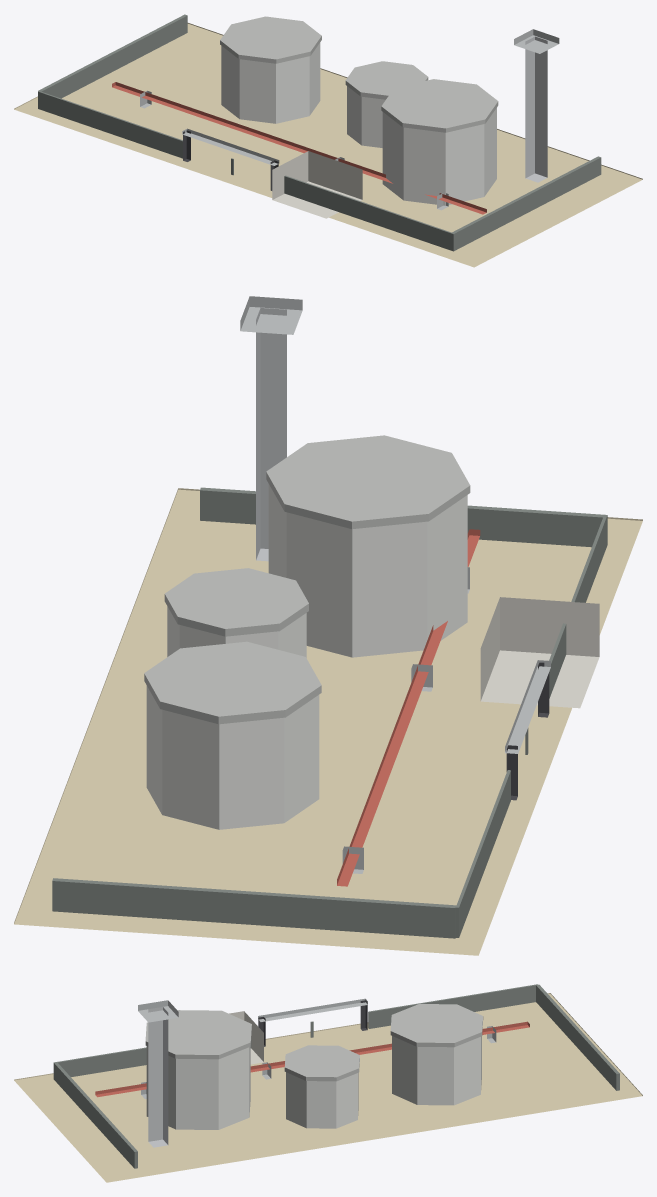
Rendered from refinery_road.glb.
The picture shows the model from 3 angles, top to bottom: view 1: azimuth 30°, elevation 25°; view 2: azimuth 150°, elevation 25°; view 3: azimuth 270°, elevation 25°; orthographic projection. The views are drawn at different scales.
Visible parts, largest first — view 1: refinery_road_lod0; view 2: refinery_road_lod0; view 3: refinery_road_lod0.
Boxes of the visible parts, <box> form: refinery_road_lod0: <box>14,14,642,267</box>; refinery_road_lod0: <box>14,296,642,955</box>; refinery_road_lod0: <box>14,984,642,1182</box>.
Size of what is drawn, in the model's own units: 48.3 by 16.28 by 67.91.
